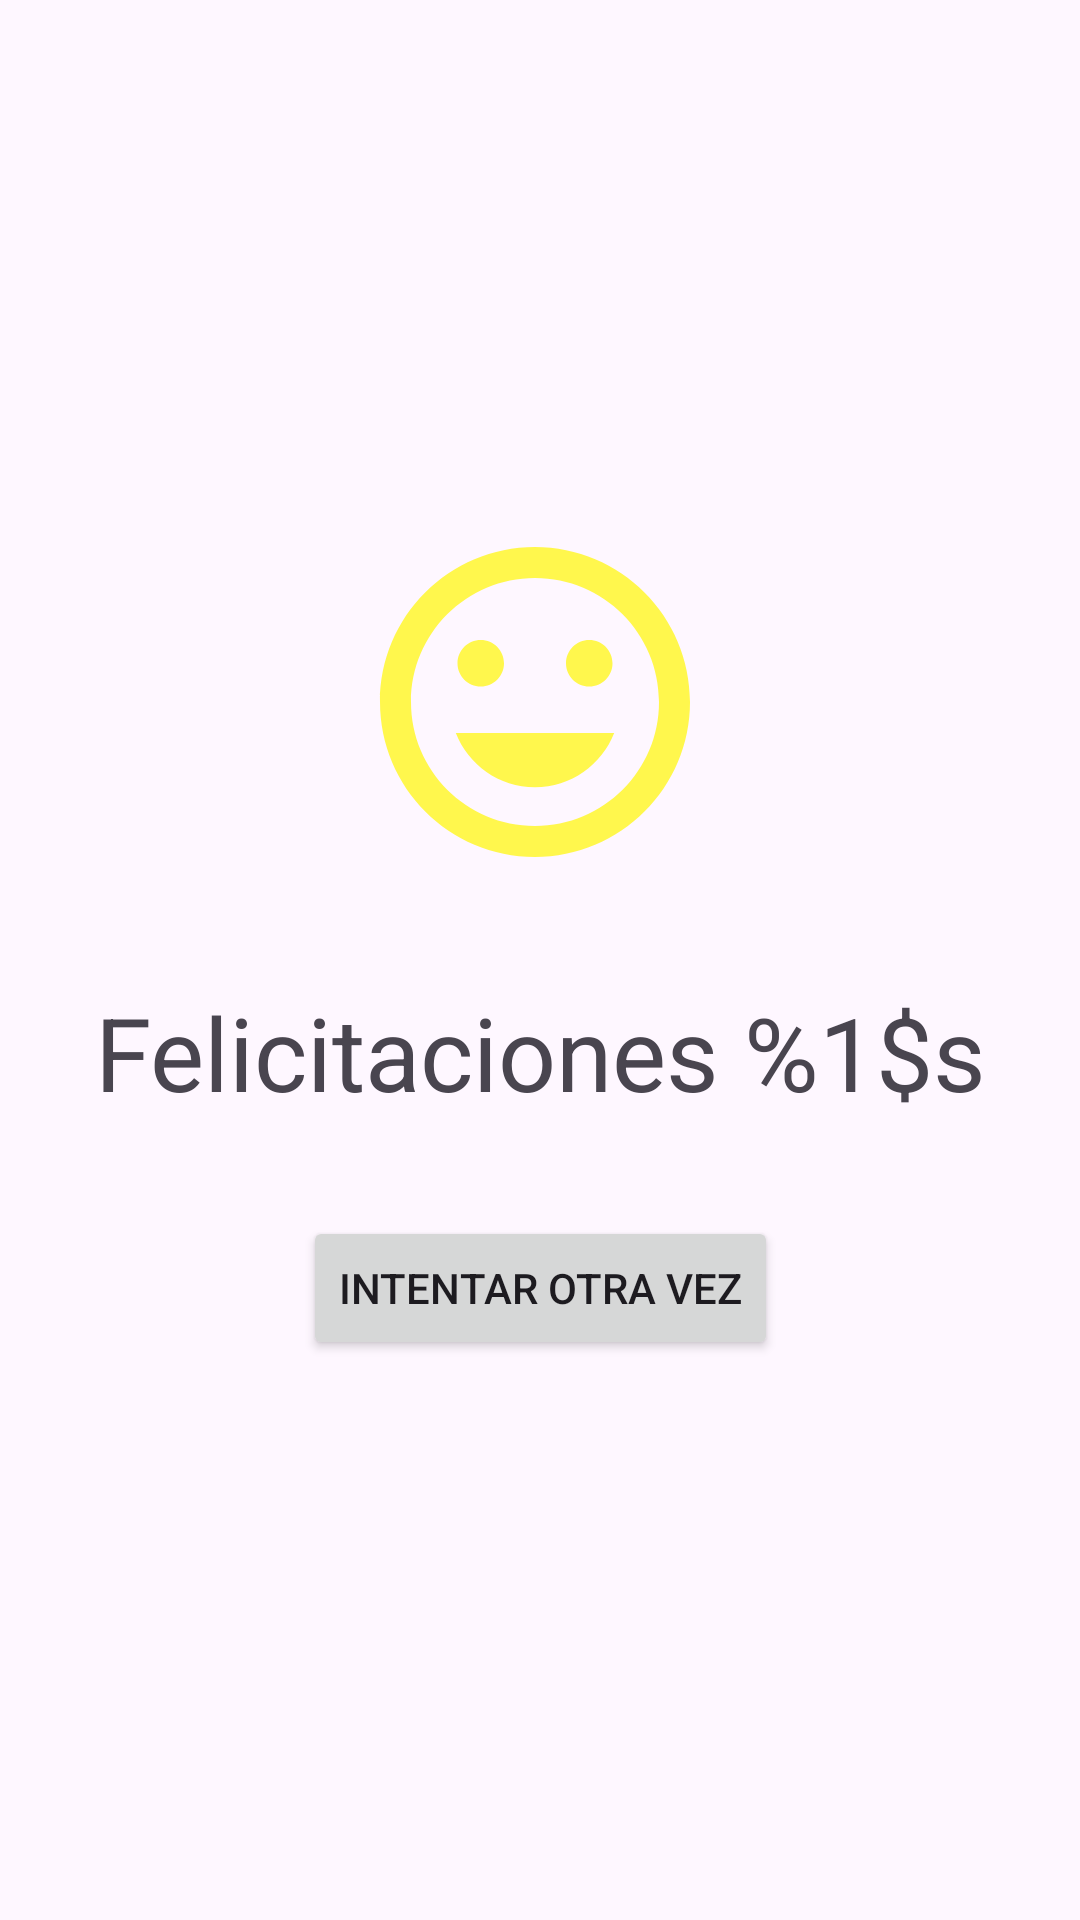

Icons on this 1080px x 1920px Android screen, each with the point to tap as (x,y):
mood: (535,702)
